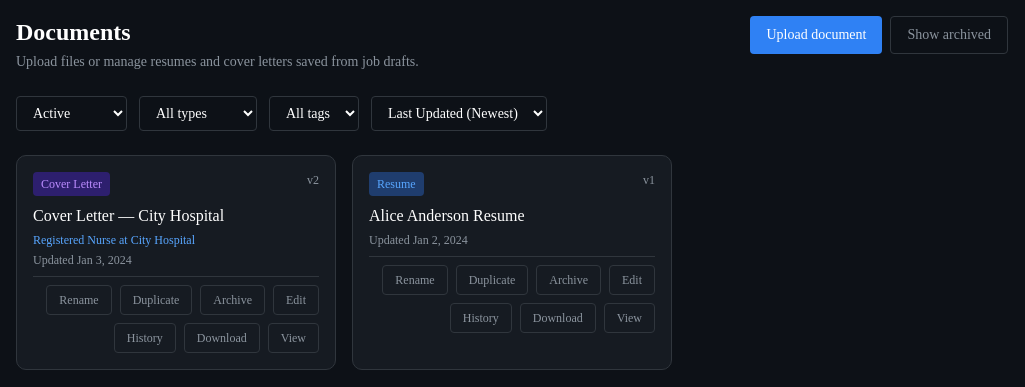
DocumentsPage - S3-007 Document Duplicate and Rename › updates the card title when Rename succeeds
expect the heading "Alice Anderson Resume" is shown: met, box left=369, top=207, right=524, bottom=224
Step 1. Click the button with test id "document-rename-button" below "Jan 2, 2024" → point(415, 280), box left=382, top=265, right=448, bottom=295
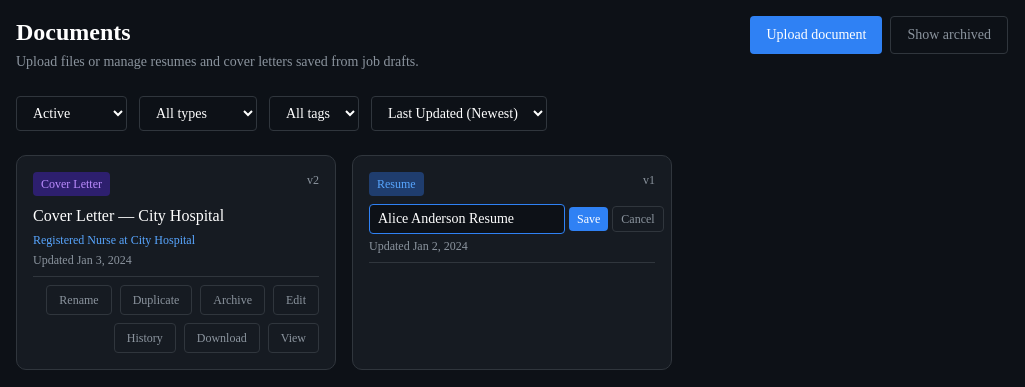
Step 2. Replace the text in the field with test id "document-rename-input" with "Nurse Resume v2" → point(467, 219), box left=369, top=204, right=565, bottom=234
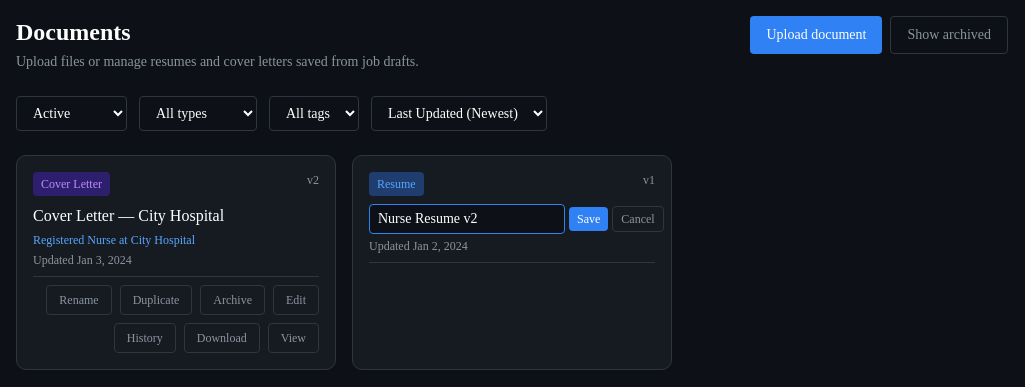
Step 3. Click the button with test id "document-rename-save" → point(589, 219), box left=569, top=207, right=608, bottom=231
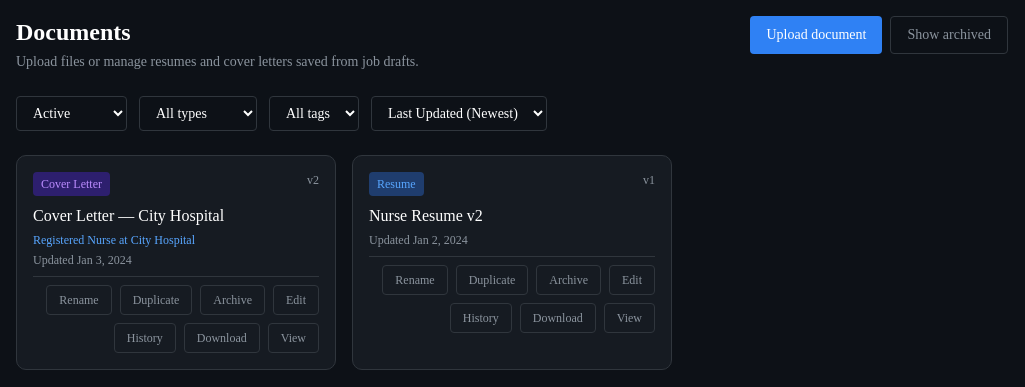
expect the heading "Nurse Resume v2" is shown: met, box left=369, top=207, right=483, bottom=224
